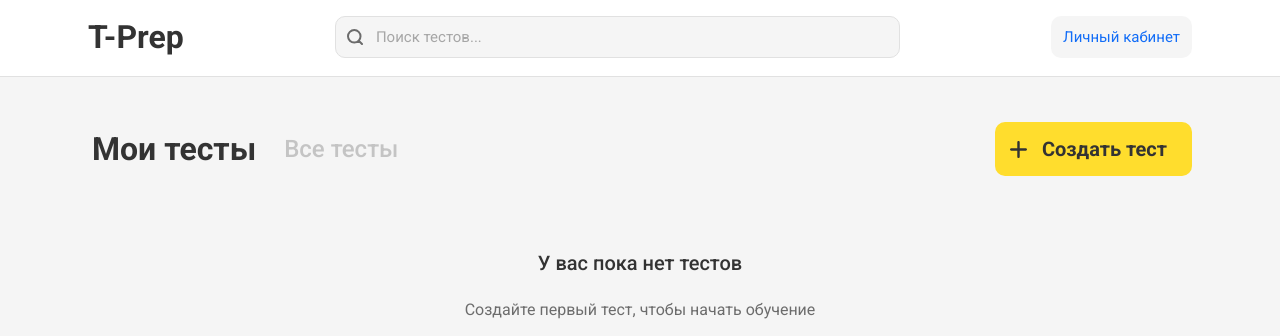
Test: MainPage › tabs › shows public empty state
The width and height of the screenshot is (1280, 336).
Expected: the text "У вас пока нет тестов" is shown, [538,251,742,275]
Click the button "Все тесты" at [341, 149], box [280,122,402,176]
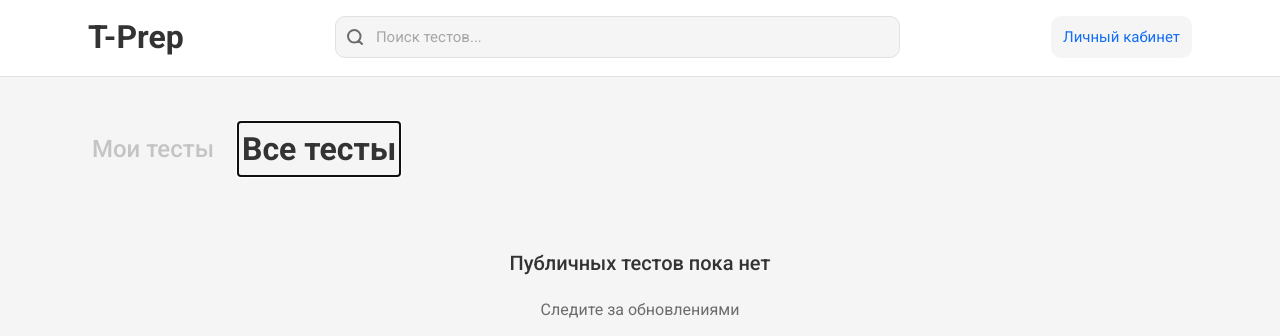
Expected: the text "Публичных тестов пока нет" is shown, [510,251,770,275]
